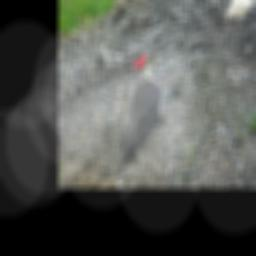Woodpecker: (117, 49, 173, 168)
